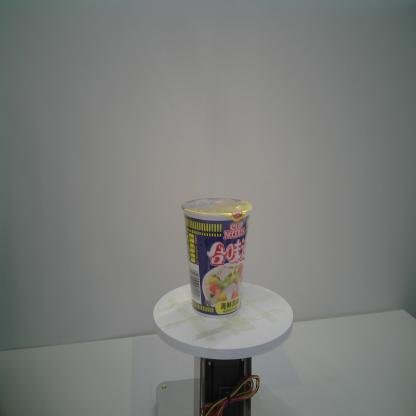Instant Noodles: (179, 195, 253, 316)
